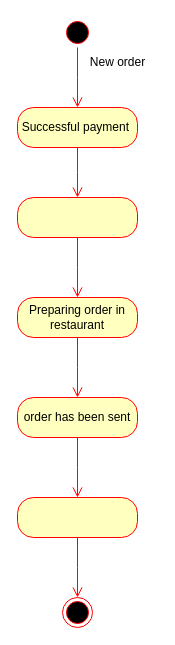
Some shapes in this 175 by 645 pixel diagram are drawn without their labels. Here are the shapes that lost their labels. From the top down, the centre of each, then its label:
(x=77, y=217): Order sent to restaurant
(x=77, y=517): order arrived
